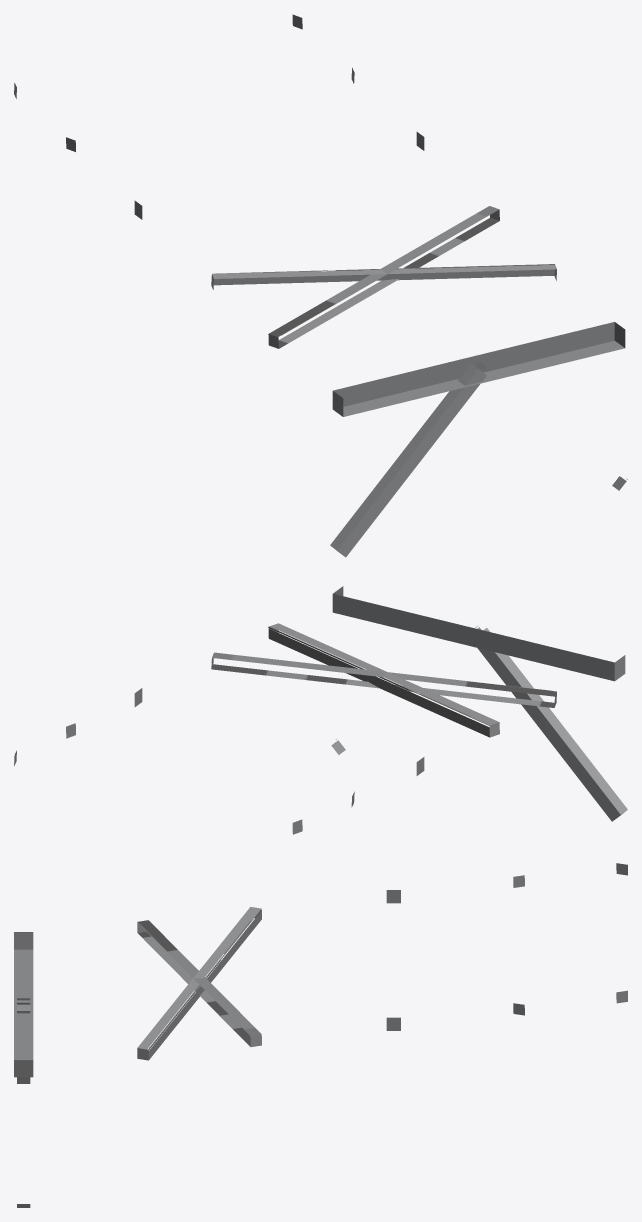
3 renders of one model, top to bottom at view 1: azimuth 30°, elevation 25°; view 2: azimuth 150°, elevation 25°; view 3: azimuth 270°, elevation 25°, orthographic. The views are drawn at different scales.
Bounding box in the file's own units: 1.03 × 0.7966 × 2.03.
